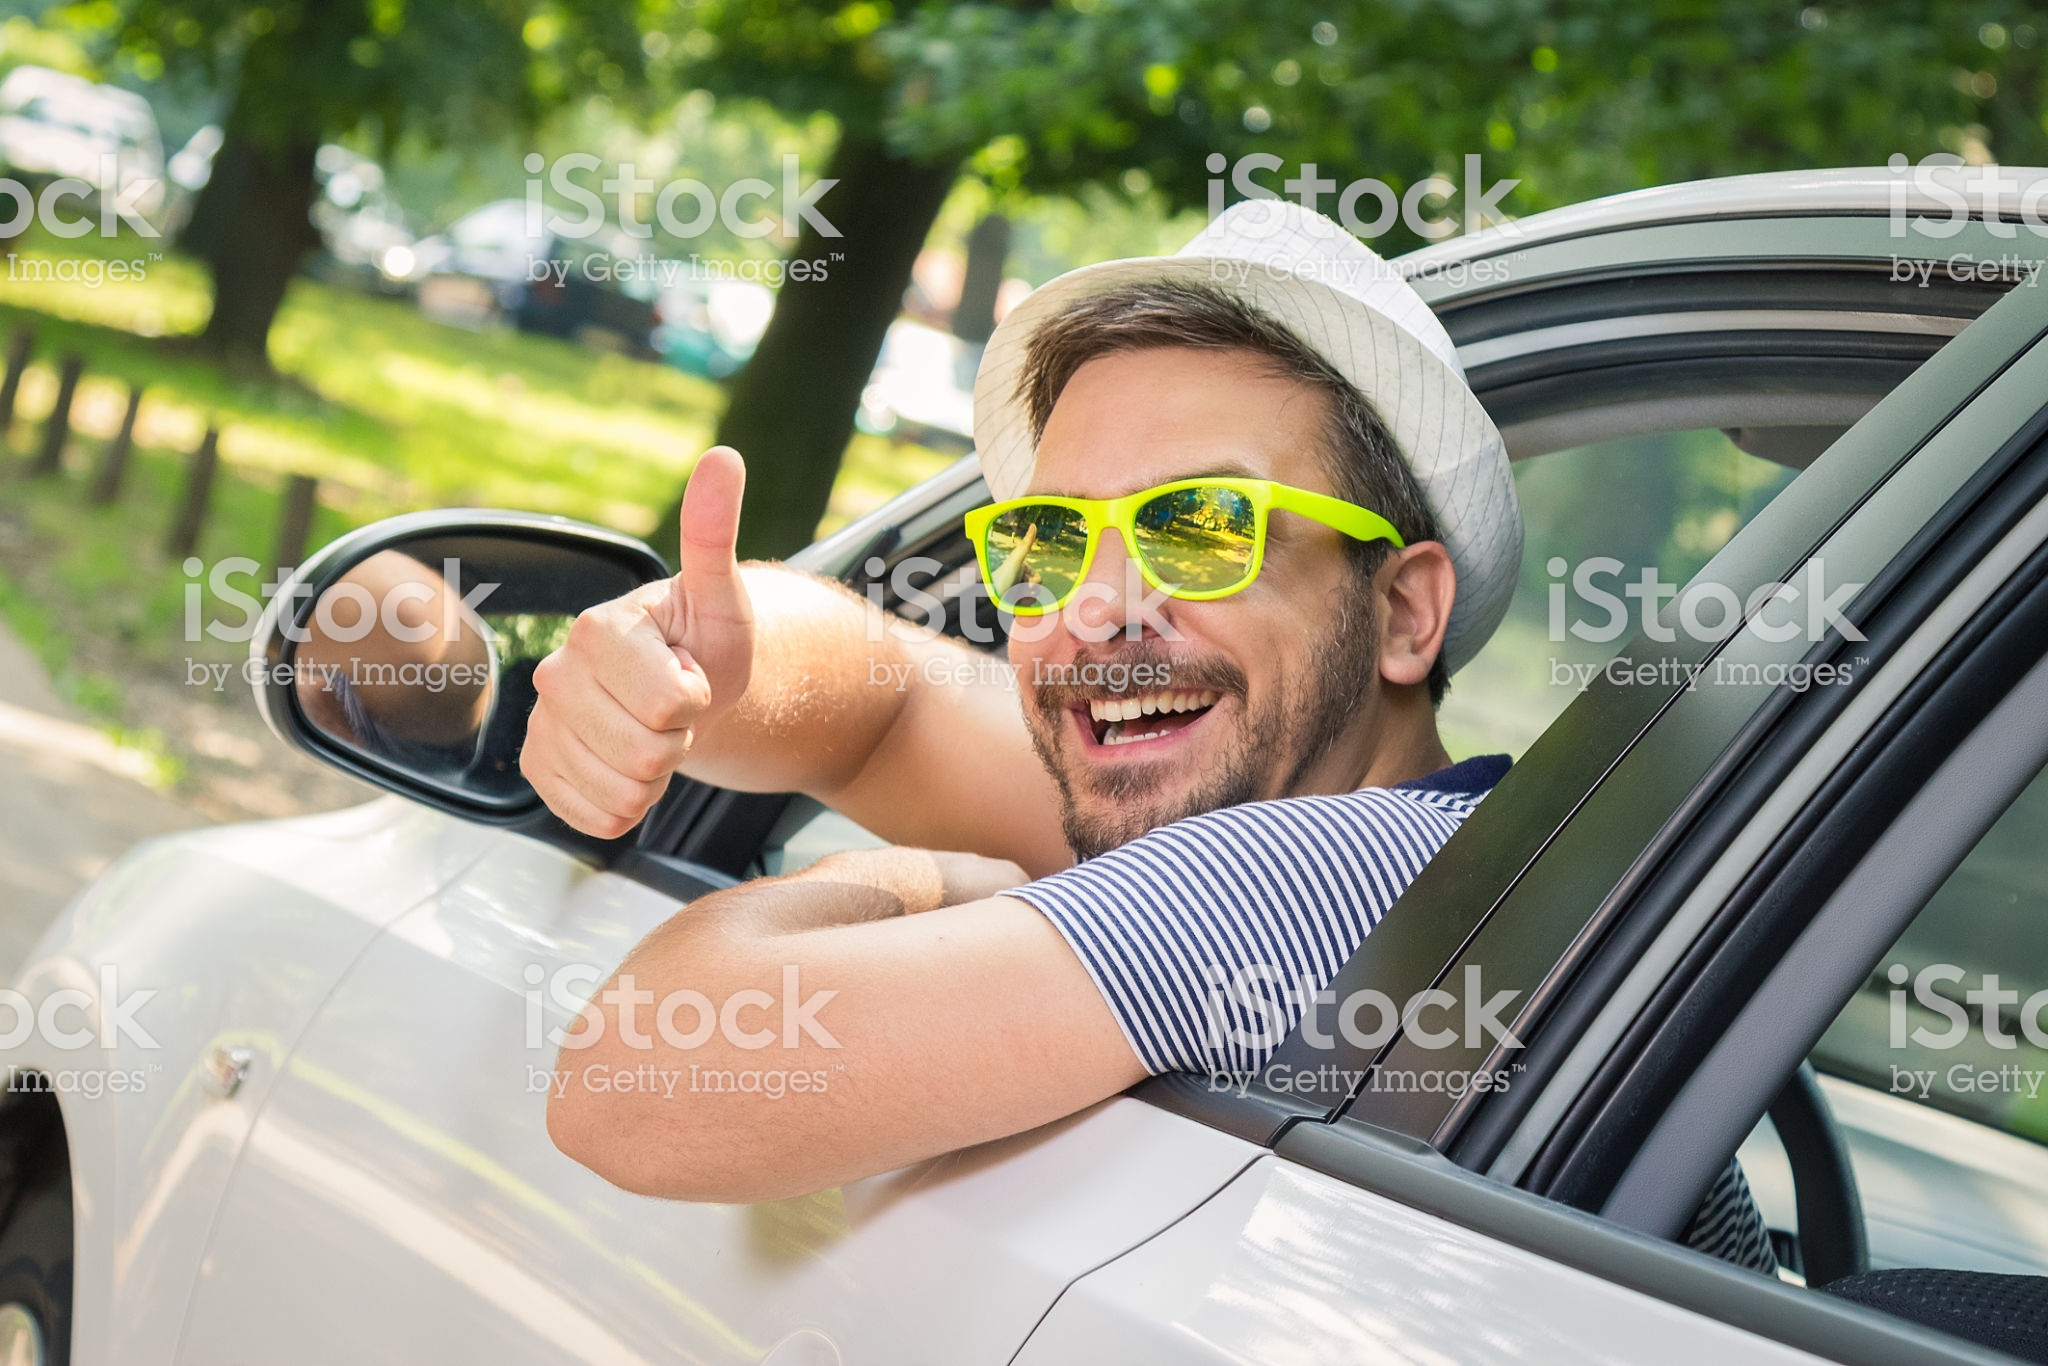thumbsup: (515, 439, 759, 846)
